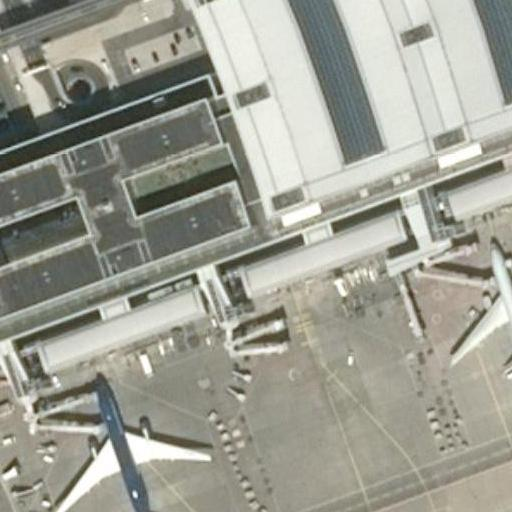Aircraft: (45, 384, 211, 512), (446, 241, 512, 393)
